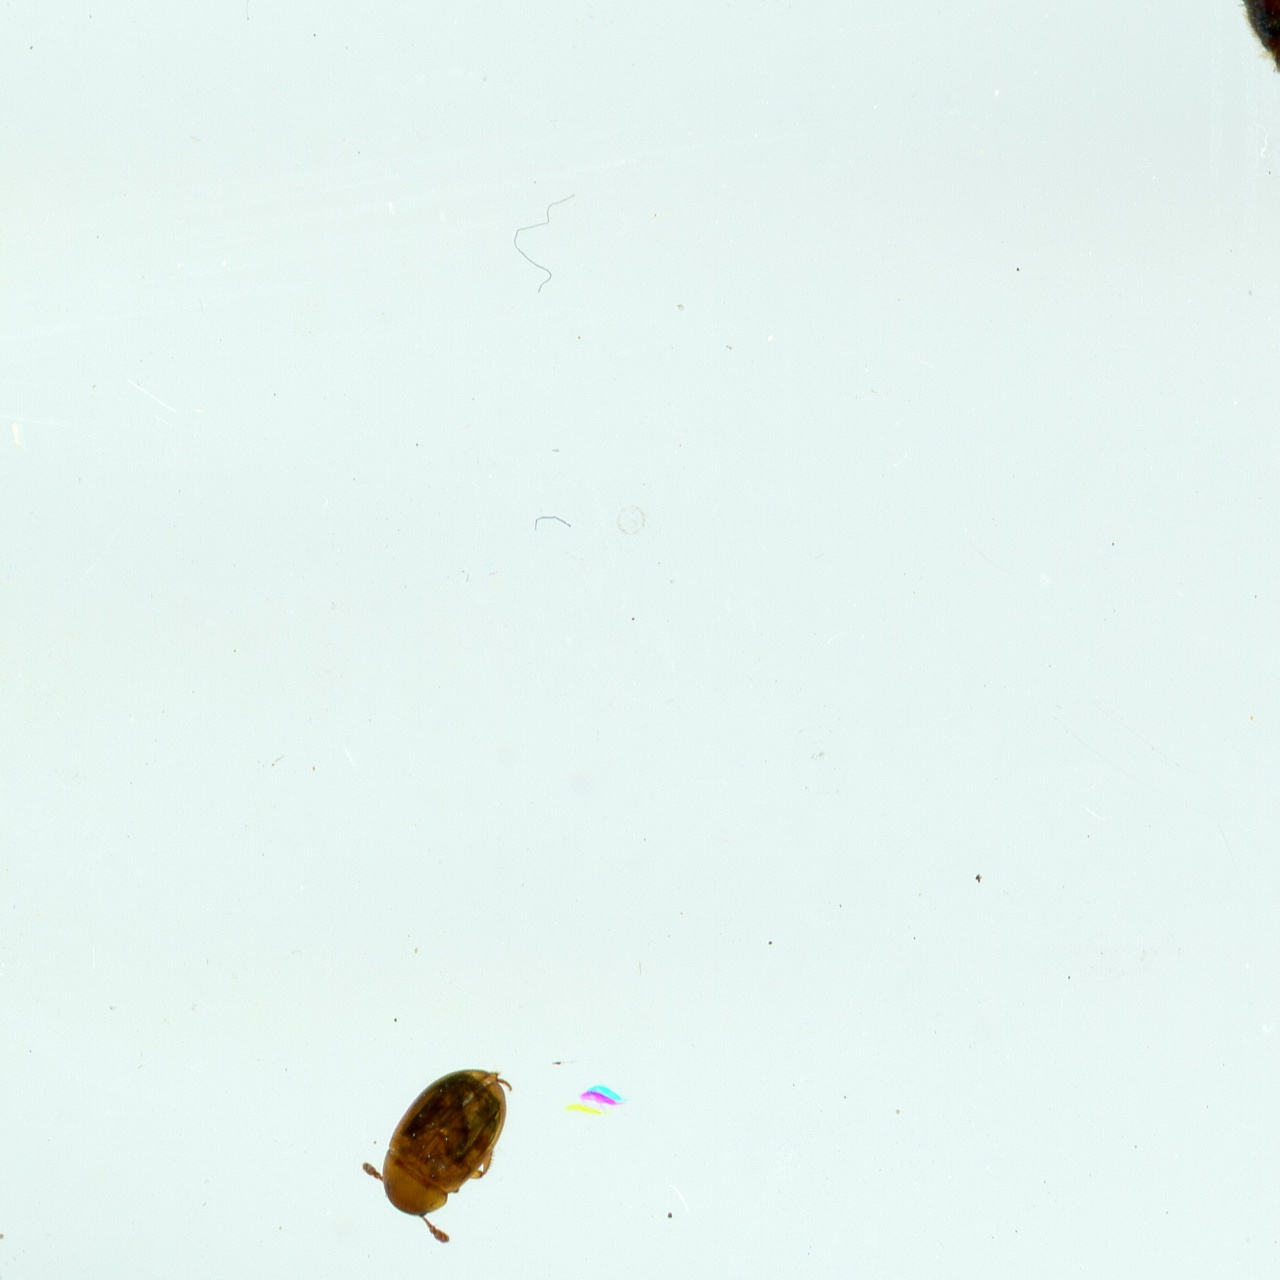arthropod: (365, 1060, 517, 1248), (562, 1084, 625, 1114)
